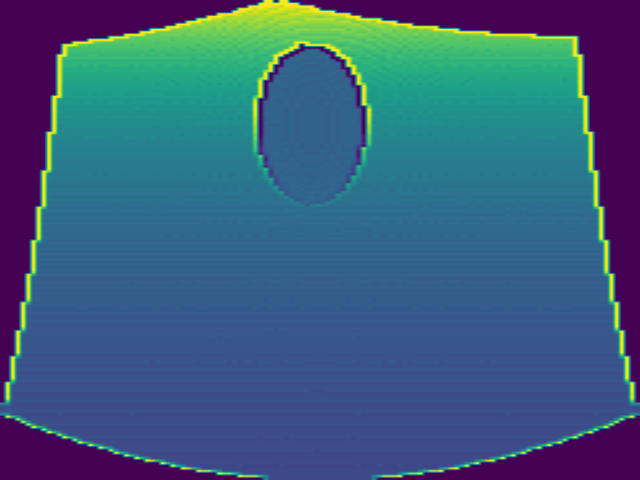sphere: (251, 42, 370, 201)
